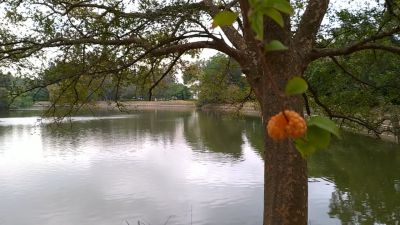eggs: (267, 108, 308, 142)
